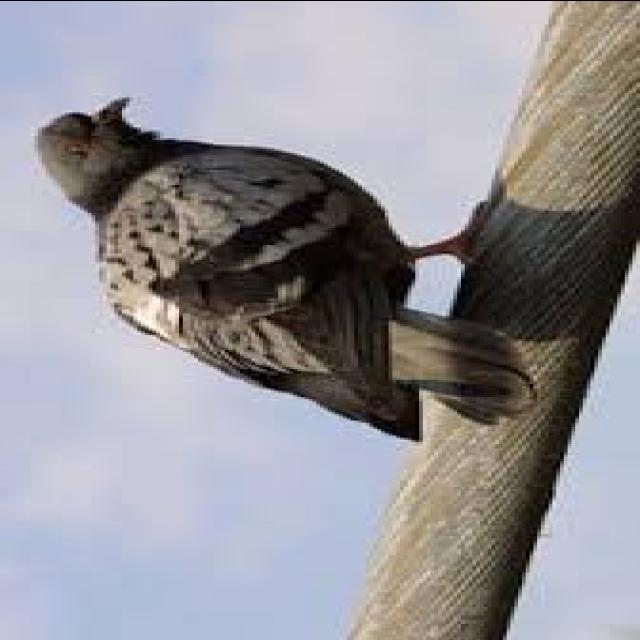pigeon: (6, 96, 542, 446)
